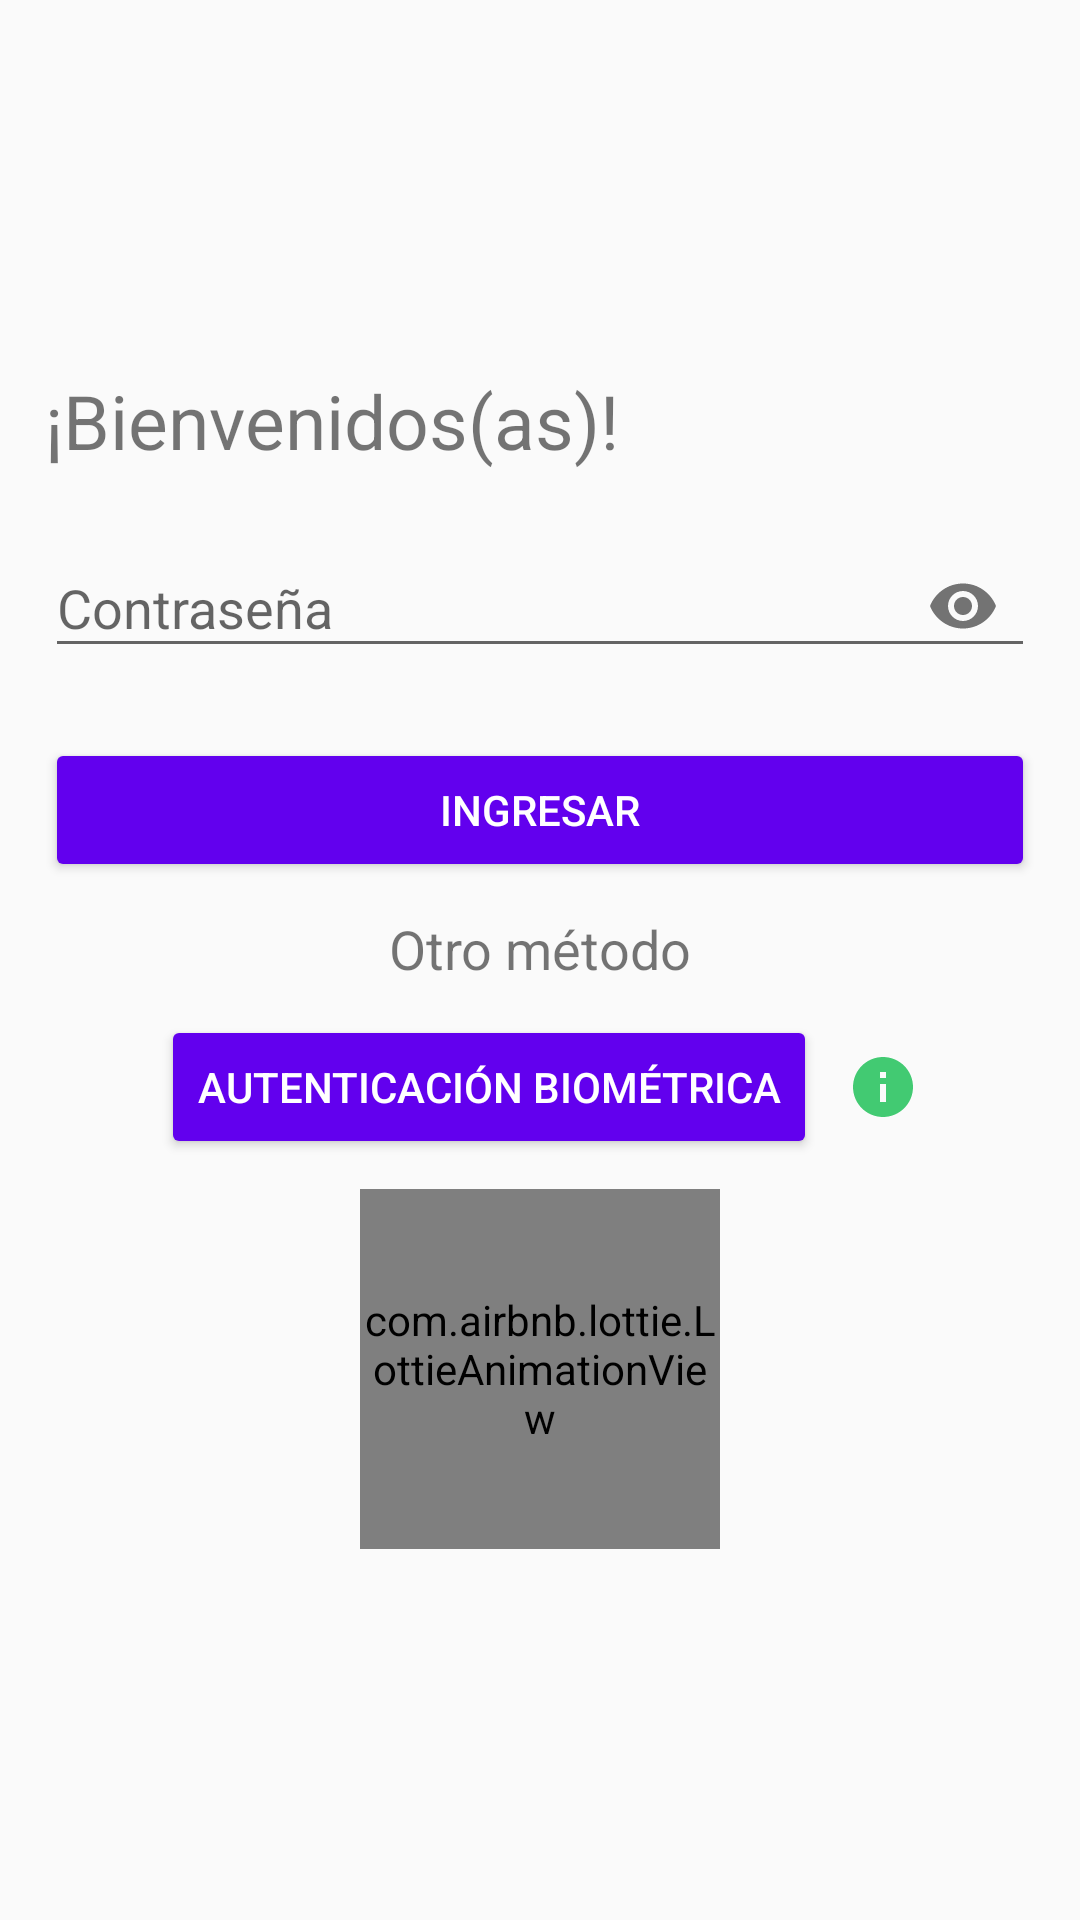

Screen size 1080 x 1920. Icon name, then its center in pixels as (x,y):
aviso: (883,1087)
